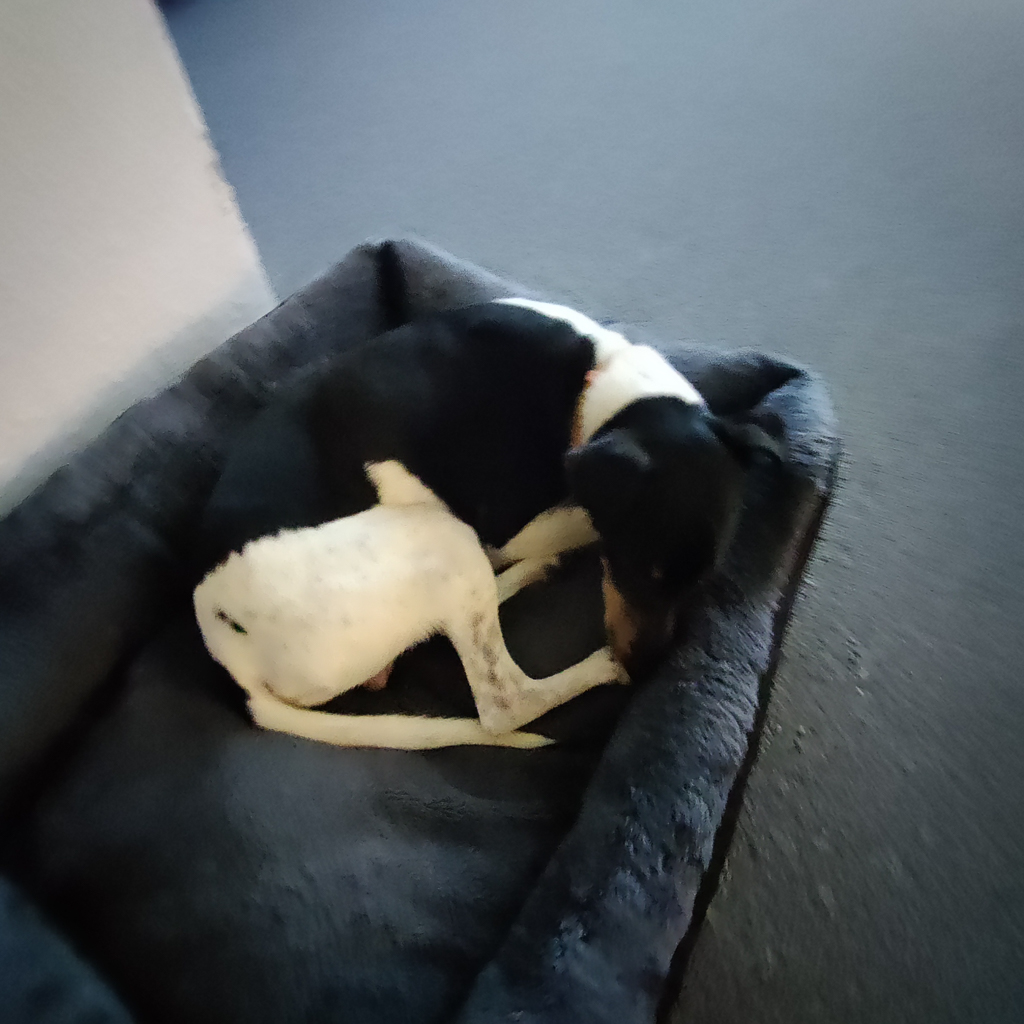Dog: (165, 282, 806, 783)
